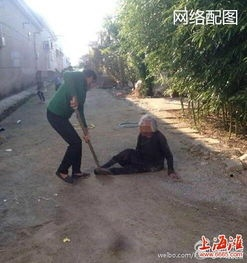falling: (88, 109, 182, 180)
